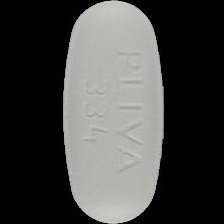16590-152: (0, 0, 224, 224)
